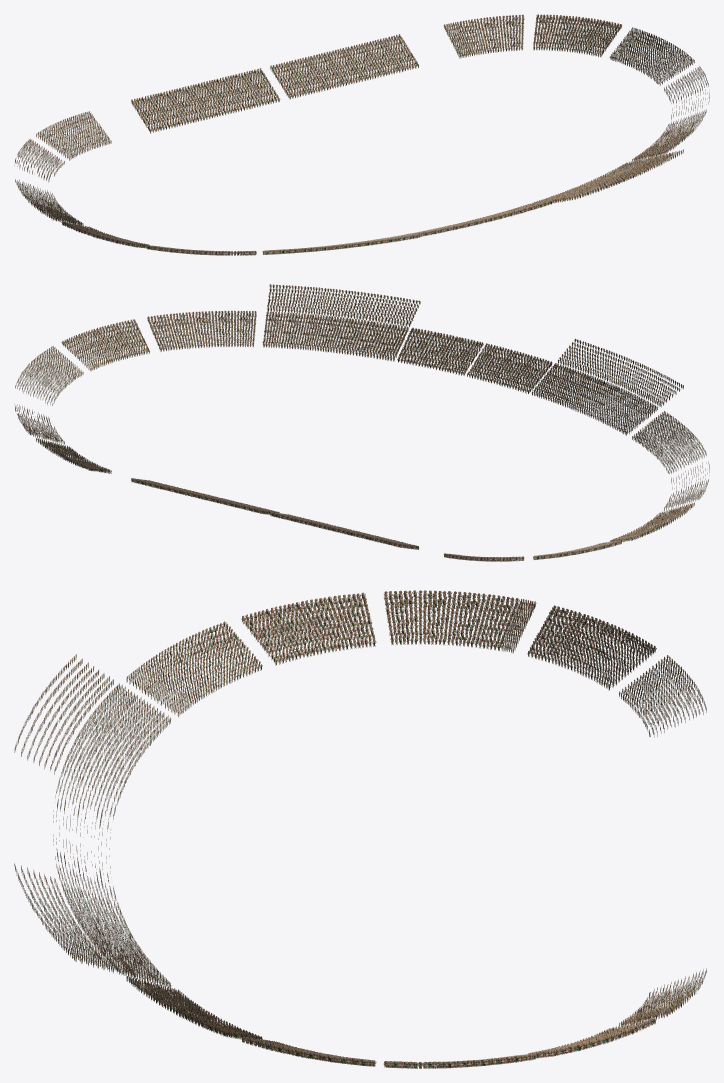
Rendered from Track2_Peoples.fbx.
3 views of the same model, one above another, from view 1: azimuth 30°, elevation 25°; view 2: azimuth 150°, elevation 25°; view 3: azimuth 270°, elevation 25° (orthographic). The views are drawn at different scales.
Parts seen in each view (by area): view 1: polySurface29, polySurface297, polySurface41, polySurface120, polySurface126, polySurface128, polySurface298, polySurface384, polySurface379, polySurface35, polySurface382, polySurface385 (+9 smaller); view 2: polySurface285, polySurface284, polySurface278, polySurface283, polySurface282, polySurface280, polySurface281, polySurface40, polySurface296; view 3: no part large enough to name.
Boxes of the visible parts, bbox=[...] form: polySurface29: bbox=[269, 234, 420, 254]; polySurface297: bbox=[289, 64, 418, 99]; polySurface41: bbox=[149, 98, 280, 133]; polySurface120: bbox=[137, 78, 267, 113]; polySurface126: bbox=[143, 88, 273, 123]; polySurface128: bbox=[138, 80, 269, 115]; polySurface298: bbox=[284, 56, 414, 91]; polySurface384: bbox=[278, 47, 408, 82]; polySurface379: bbox=[286, 60, 417, 95]; polySurface35: bbox=[140, 82, 270, 117]; polySurface382: bbox=[282, 54, 412, 89]; polySurface385: bbox=[275, 43, 406, 78]; polySurface285: bbox=[269, 284, 420, 304]; polySurface284: bbox=[269, 288, 418, 308]; polySurface278: bbox=[267, 307, 410, 326]; polySurface283: bbox=[268, 292, 417, 311]; polySurface282: bbox=[268, 295, 415, 314]; polySurface280: bbox=[267, 301, 413, 321]; polySurface281: bbox=[268, 298, 414, 318]; polySurface40: bbox=[270, 512, 400, 547]; polySurface296: bbox=[131, 478, 261, 513].
Bounding box in the file's own units: 21460 × 1346 × 13381.
